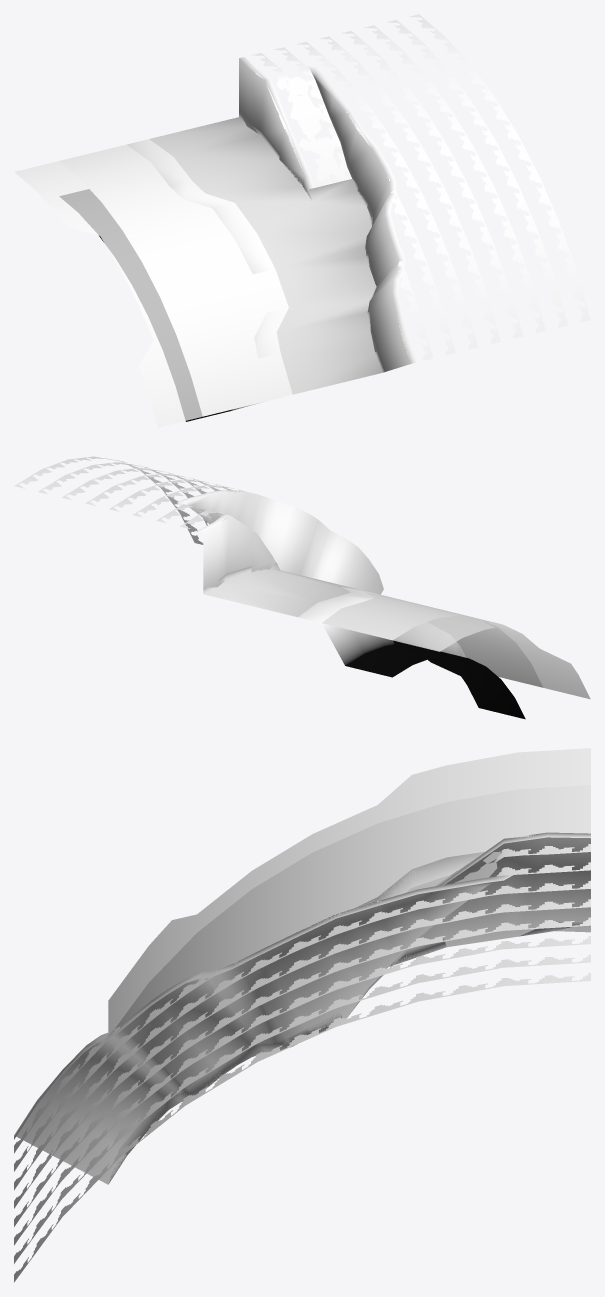
Rendered from grd_Mw_S_0.dae.
The picture shows the model from 3 angles, top to bottom: view 1: azimuth 30°, elevation 25°; view 2: azimuth 150°, elevation 25°; view 3: azimuth 270°, elevation 25°; orthographic projection. The views are drawn at different scales.
Parts seen in each view (by area): view 1: beach_0_0, ocean_4_0, wave_6_0, grass_3_0, cliff_2_0, beach_1_0, slope_5_0; view 2: cliff_2_0, beach_1_0, ocean_4_0, wave_6_0, beach_0_0, grass_3_0; view 3: cliff_2_0, wave_6_0, ocean_4_0, grass_3_0, beach_0_0, beach_1_0.
Part boxes in pixels (<box>): beach_0_0: <box>149,111,385,394</box>; ocean_4_0: <box>59,144,292,416</box>; wave_6_0: <box>14,150,285,427</box>; grass_3_0: <box>252,14,590,360</box>; cliff_2_0: <box>239,57,416,371</box>; beach_1_0: <box>60,139,292,421</box>; slope_5_0: <box>276,76,345,181</box>; cliff_2_0: <box>177,490,383,594</box>; beach_1_0: <box>298,587,525,719</box>; ocean_4_0: <box>322,592,543,687</box>; wave_6_0: <box>343,587,590,699</box>; beach_0_0: <box>203,562,357,617</box>; grass_3_0: <box>14,456,243,544</box>; cliff_2_0: <box>14,832,590,1184</box>; wave_6_0: <box>108,748,590,1032</box>; ocean_4_0: <box>115,785,590,1028</box>; grass_3_0: <box>14,835,590,1282</box>; beach_0_0: <box>108,875,582,1183</box>; beach_1_0: <box>355,852,484,907</box>.
Bounding box in the file's own units: 576 × 308 × 423.
7 materials, 1 textured.
